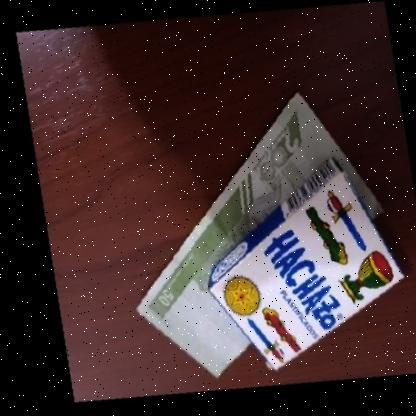fifty-back-vef: (104, 77, 402, 395)
